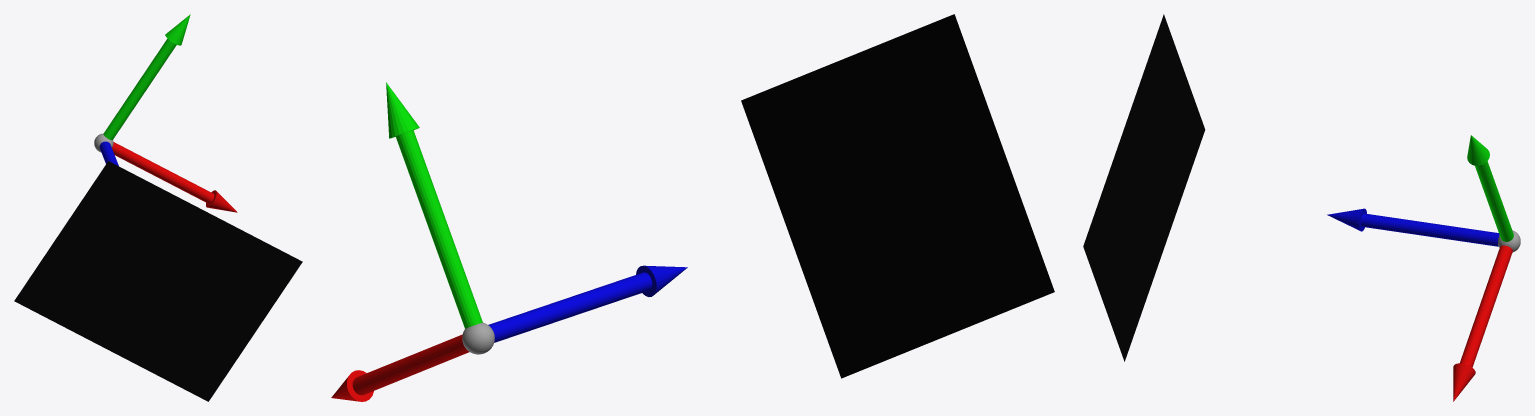
3 renders of one model, left to right at view 1: azimuth 30°, elevation 25°; view 2: azimuth 150°, elevation 25°; view 3: azimuth 270°, elevation 25°, orthographic. The views are drawn at different scales.
Size of the model in its own units: 0.2913 by 0.2137 by 0.2812.
